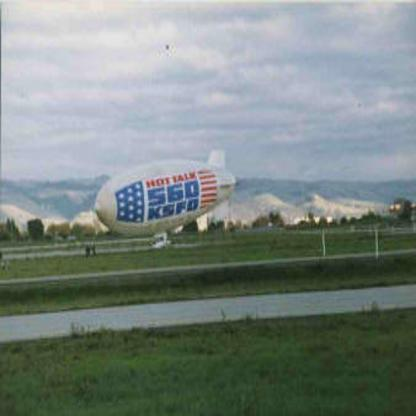Airship: (92, 148, 244, 233)
